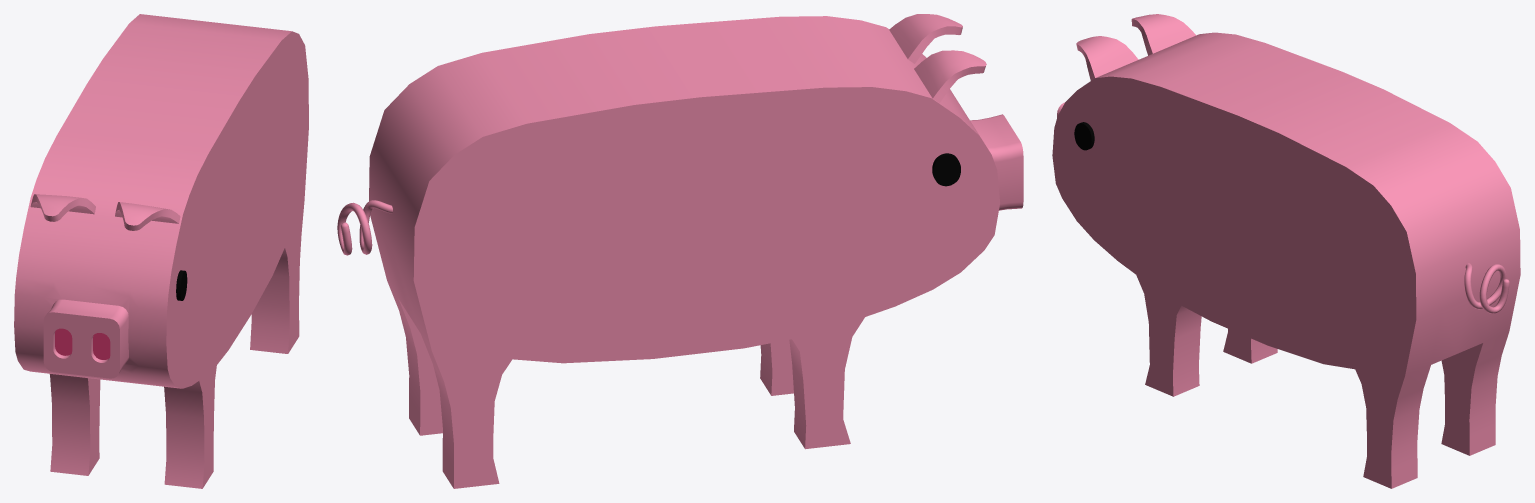
The model's file is pig.fbx.
3 views of the same model, side by side, from view 1: azimuth 30°, elevation 25°; view 2: azimuth 150°, elevation 25°; view 3: azimuth 270°, elevation 25° (orthographic). The views are drawn at different scales.
Parts seen in each view (by area): view 1: Plane.121, Cube.6232; view 2: Plane.121, Cube.6232, Plane.122, Circle.1896; view 3: Plane.121, Cube.6232, Plane.122.
Boxes of the visible parts, box(x1,y1,x2,y2) form: Plane.121: box(14, 14, 308, 488); Cube.6232: box(30, 194, 180, 230); Plane.121: box(369, 16, 1023, 488); Cube.6232: box(889, 14, 986, 103); Plane.122: box(337, 200, 392, 255); Circle.1896: box(932, 153, 960, 186); Plane.121: box(1052, 32, 1520, 488); Cube.6232: box(1076, 14, 1195, 80); Plane.122: box(1464, 263, 1509, 313).
Size of the model in its own units: 221 by 161 by 221.
Materials: 1 (1 with a texture image).
